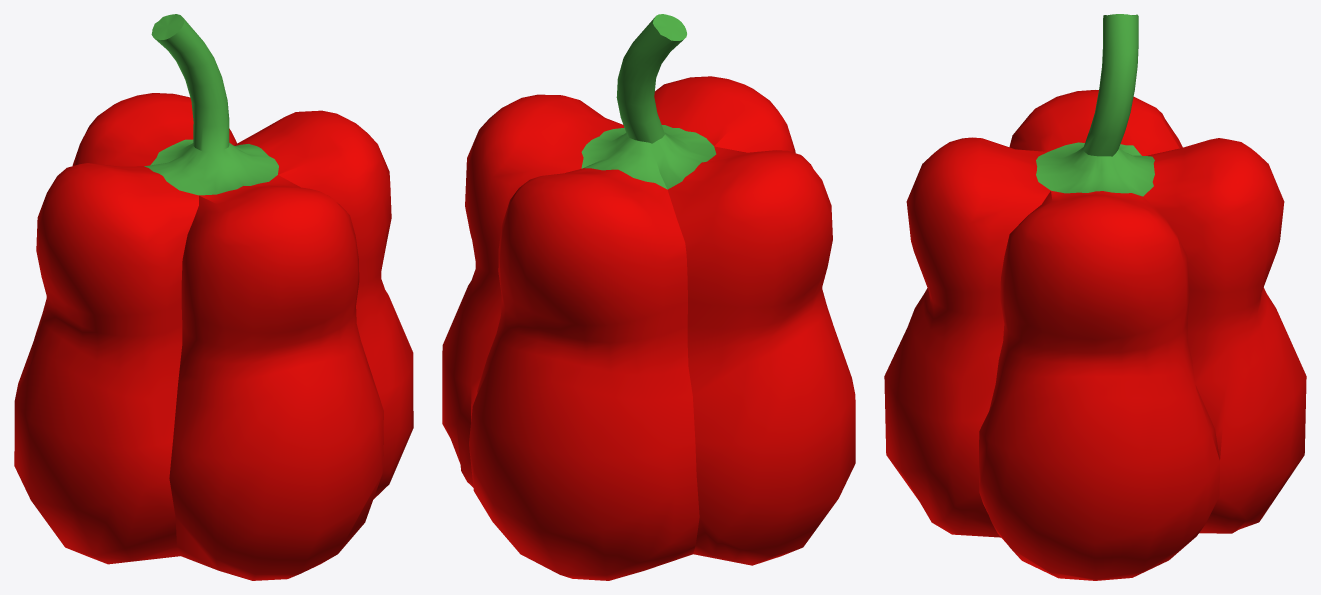
The model's file is mesh_capsicum.fbx.
The picture shows the model from 3 angles, left to right: view 1: azimuth 30°, elevation 25°; view 2: azimuth 150°, elevation 25°; view 3: azimuth 270°, elevation 25°; orthographic projection. The views are drawn at different scales.
Parts seen in each view (by area): view 1: Cube; view 2: Cube; view 3: Cube.
Part boxes in pixels (x1,y1,x2,y2): Cube: (14,14,413,580); Cube: (442,14,855,580); Cube: (884,14,1306,580).
Bounding box in the file's own units: 358 × 470 × 358.
